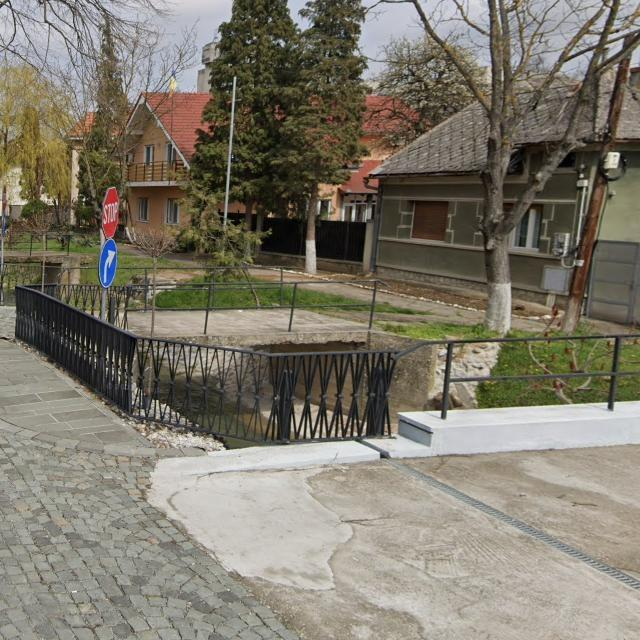prio_stop: (102, 188, 120, 240)
